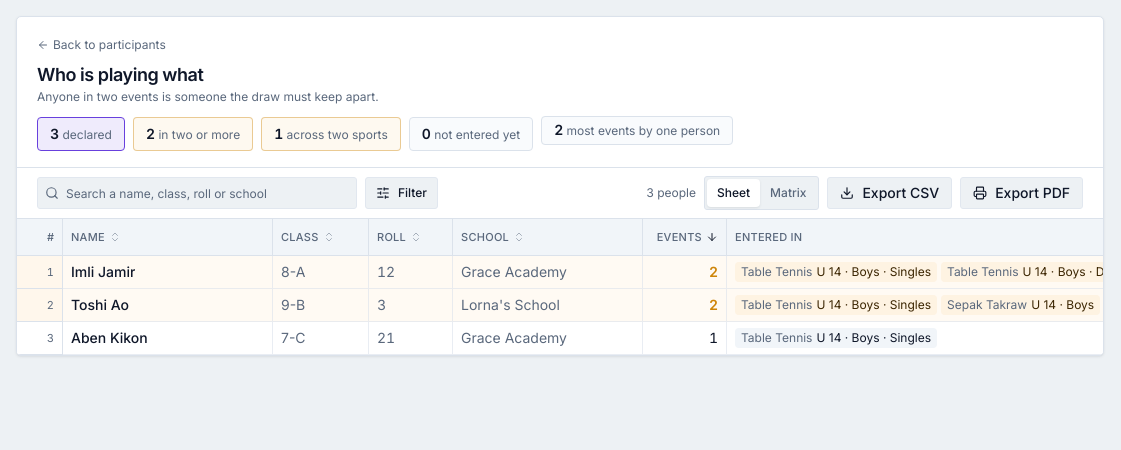
Scenario: ParticipationPage › the Matrix is the grid: one column per competition, ticked per person
Click the radio button with test id "participation-view-matrix".
click(788, 193)  # box [760,179,816,207]
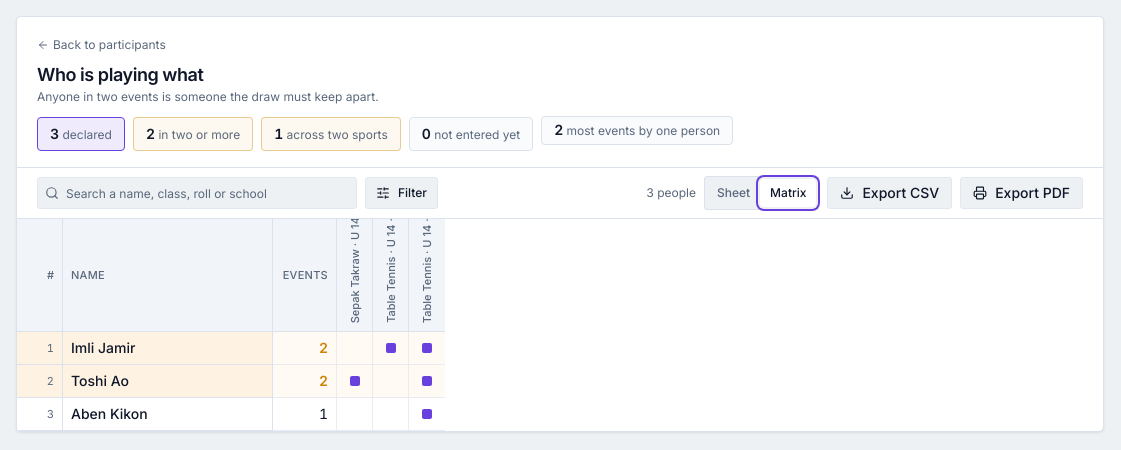
Check: the text "Sepak Takraw · U 14 · Boys" is shown, box [348,219,362,323]
Check: the number of elements named "Imli Jamir: " is 2, box [386,343,396,353]; [422,343,432,353]
